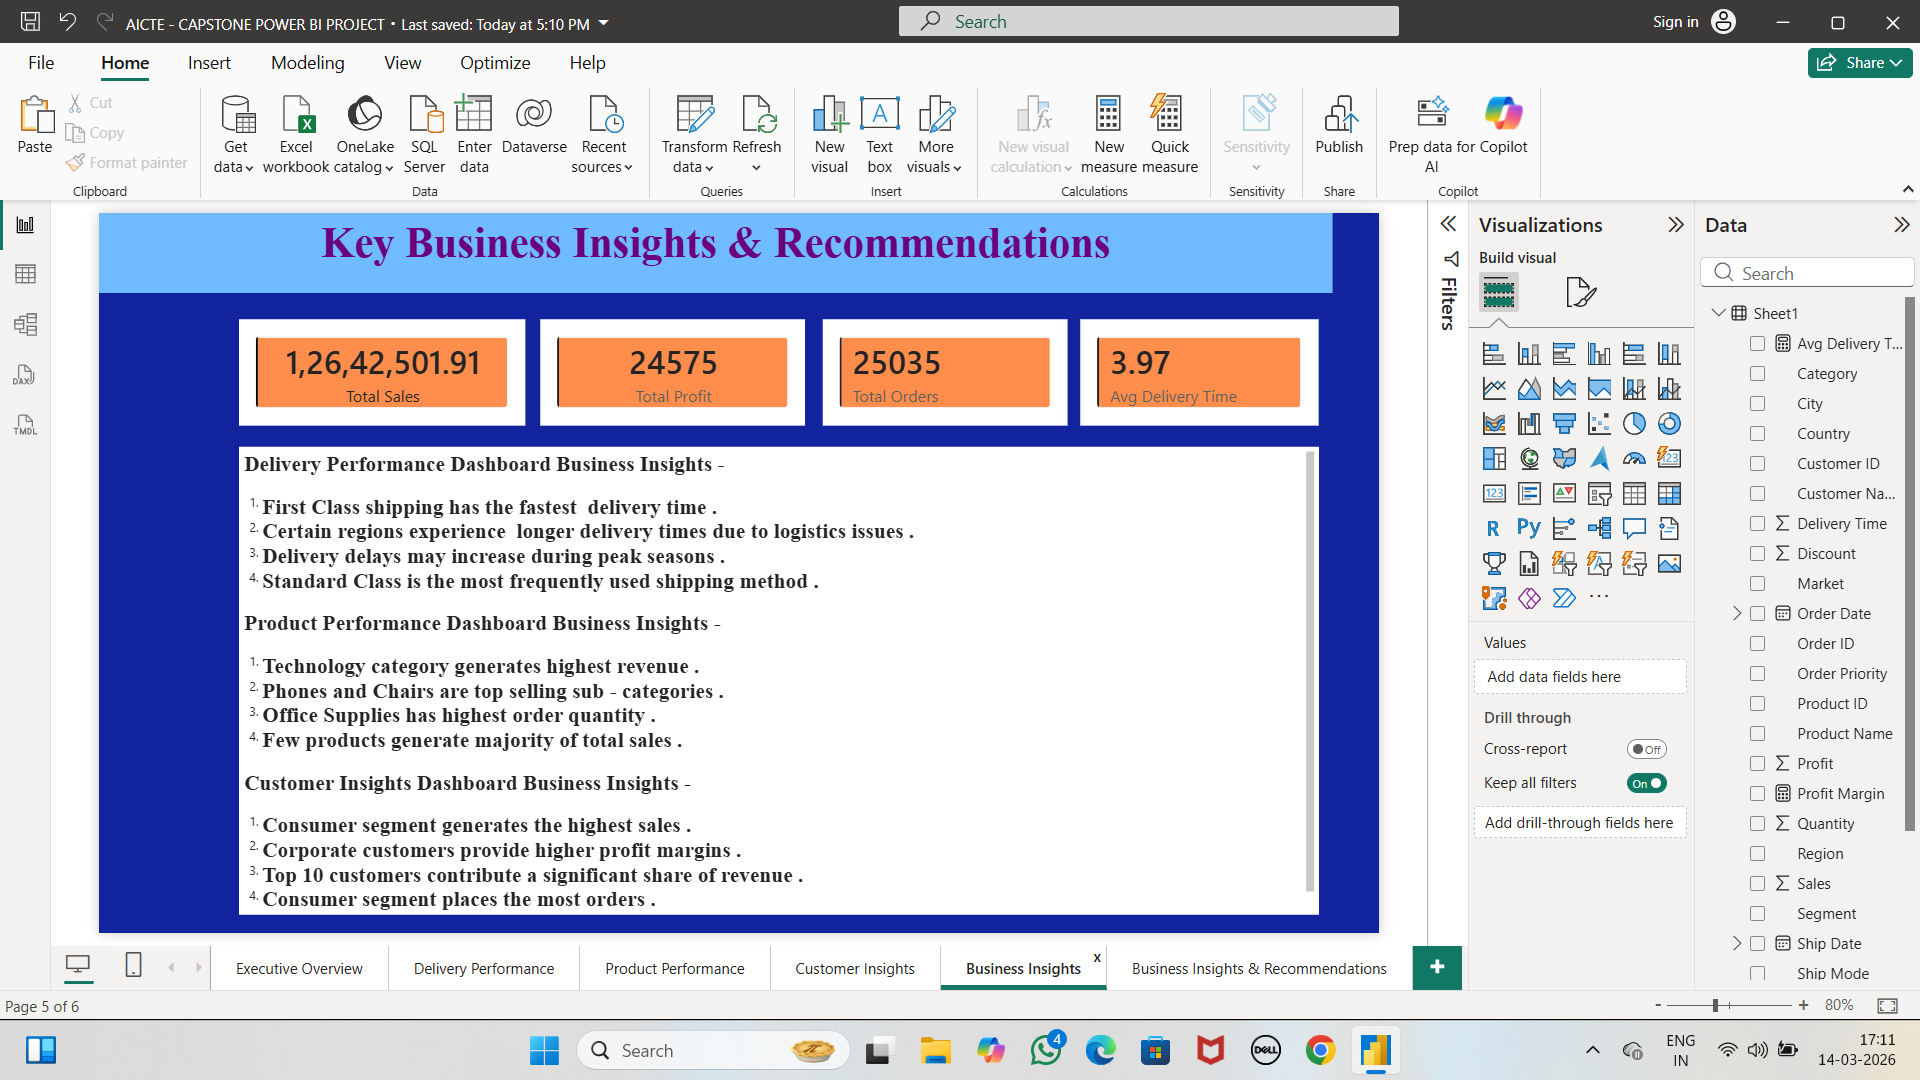

The page's visual inventory and layout, read from the dashboard file:
{"tool":"powerbi","page":{"name":"Business Insights & Recommendations","canvas":[1280,720],"ordinal":5},"visuals":[{"type":"textbox","box":[106.7,200,1110,445],"z":0},{"type":"textbox","box":[0,0,1280,66.7],"z":1000},{"type":"cardVisual","fields":{"Data":["Sheet1.Total Sales"]},"box":[106.7,78.3,286.7,106.7],"z":2000},{"type":"cardVisual","fields":{"Data":["Sheet1.Total Profit"]},"box":[423.3,78.3,265,106.7],"z":3000},{"type":"cardVisual","fields":{"Data":["Sheet1.Total Orders"]},"box":[725,78.3,245,106.7],"z":4000},{"type":"cardVisual","fields":{"Data":["Sheet1.Avg Delivery Time"]},"box":[996.7,78.3,220,106.7],"z":5000}]}

Visuals, with their boxes on the page's 1280x720 design canvas (x1, y1, x2, y2). These are canvas units, not pixel positions in the 1920x1080 screenshot, which may show the page scaled, cropped or inside an application window:
textbox: 107/200/1217/645
textbox: 0/0/1280/67
cardVisual - Sheet1.Total Sales: 107/78/393/185
cardVisual - Sheet1.Total Profit: 423/78/688/185
cardVisual - Sheet1.Total Orders: 725/78/970/185
cardVisual - Sheet1.Avg Delivery Time: 997/78/1217/185
